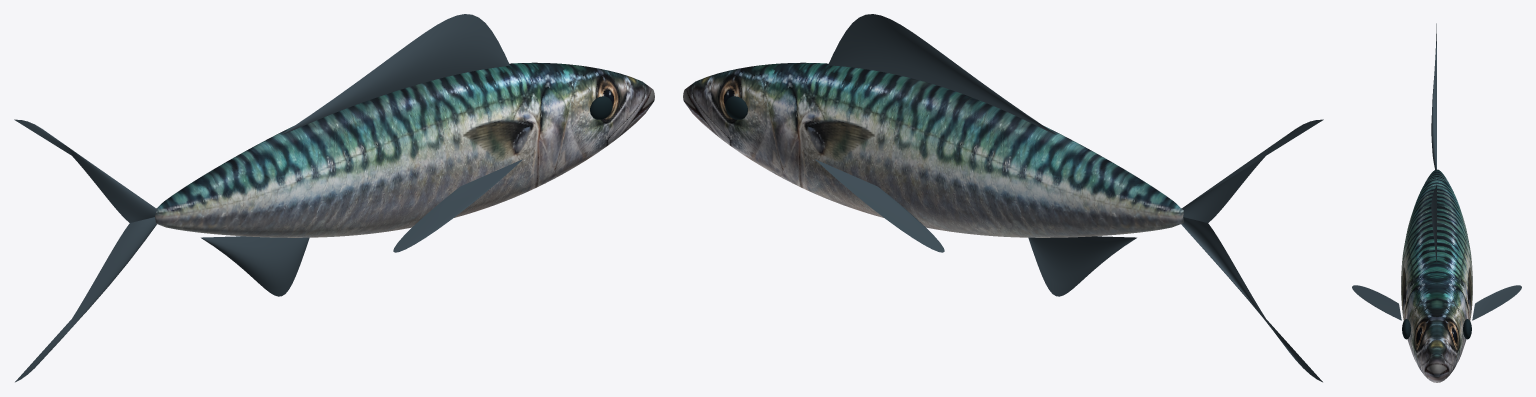
The model's file is mackerel.glb.
3 renders of one model, left to right at view 1: azimuth 30°, elevation 25°; view 2: azimuth 150°, elevation 25°; view 3: azimuth 270°, elevation 25°, orthographic. The views are drawn at different scales.
Visible parts, largest first — view 1: mackerel closed body, Fin dorsal, Fin anal, Fin caudal, Fin pectoral.001, Fin caudal.001; view 2: mackerel closed body, Fin dorsal, Fin anal, Fin pectoral, Fin caudal.001, Fin caudal; view 3: mackerel closed body, Fin pectoral.001, Fin pectoral, Fin caudal.001, Fin dorsal.
Part boxes in pixels (left/top/right/bottom): mackerel closed body: left=155, top=62, right=654, bottom=237; Fin dorsal: left=281, top=14, right=509, bottom=134; Fin anal: left=201, top=236, right=309, bottom=296; Fin caudal: left=15, top=217, right=156, bottom=382; Fin pectoral.001: left=393, top=159, right=522, bottom=252; Fin caudal.001: left=14, top=119, right=157, bottom=222; mackerel closed body: left=683, top=62, right=1183, bottom=237; Fin dorsal: left=828, top=14, right=1056, bottom=134; Fin anal: left=1028, top=236, right=1136, bottom=296; Fin pectoral: left=815, top=159, right=944, bottom=252; Fin caudal.001: left=1181, top=119, right=1323, bottom=222; Fin caudal: left=1181, top=217, right=1322, bottom=382; mackerel closed body: left=1401, top=169, right=1472, bottom=382; Fin pectoral.001: left=1352, top=285, right=1401, bottom=320; Fin pectoral: left=1472, top=285, right=1521, bottom=320; Fin caudal.001: left=1431, top=23, right=1436, bottom=169; Fin dorsal: left=1431, top=184, right=1436, bottom=262.
Size of the model in its own units: 1.27 by 0.5 by 0.3626.
3 materials, 1 textured.
